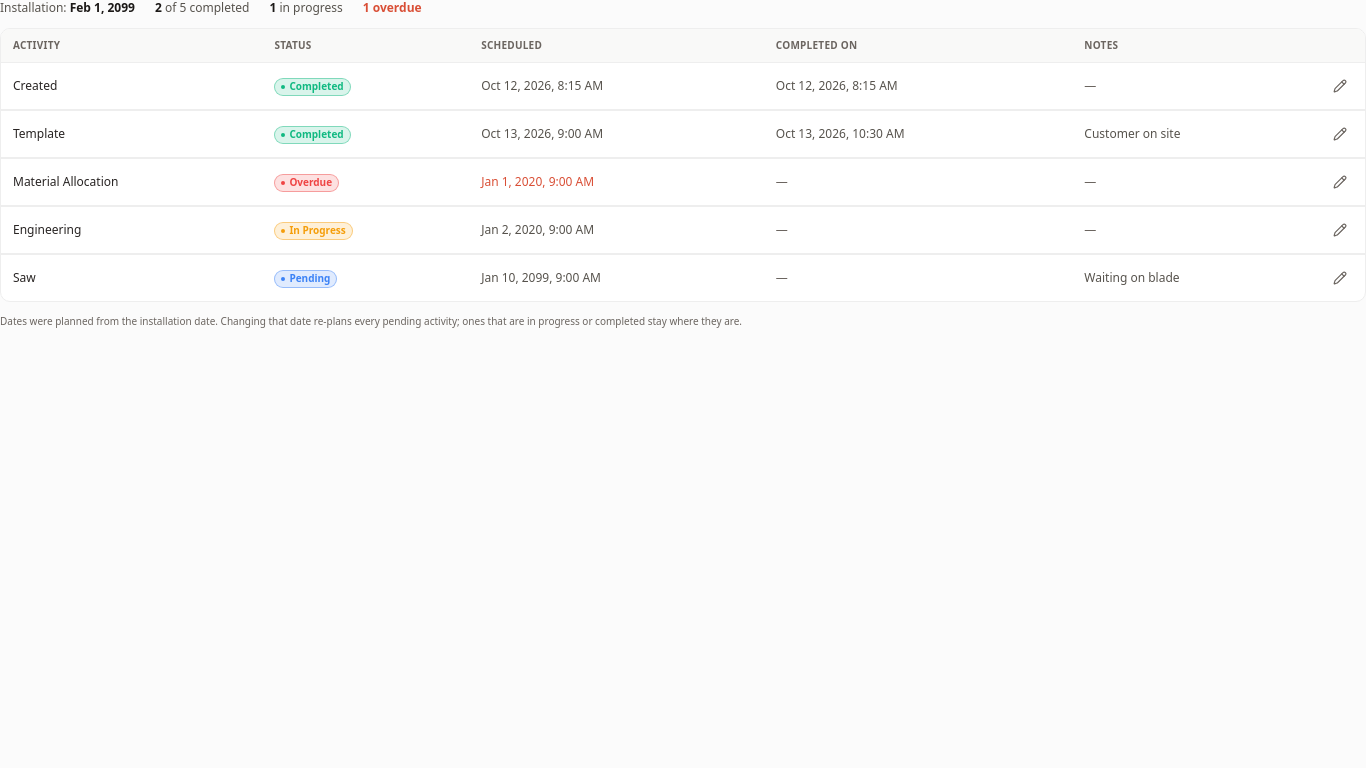
Scenario: SalesOrderSchedulingTab › refuses a completed time that has no completed date
Expected: the table is shown, [1,29,1365,301]
Click the button named "Edit Saw" at (1340, 278), box [1327,265,1353,291]
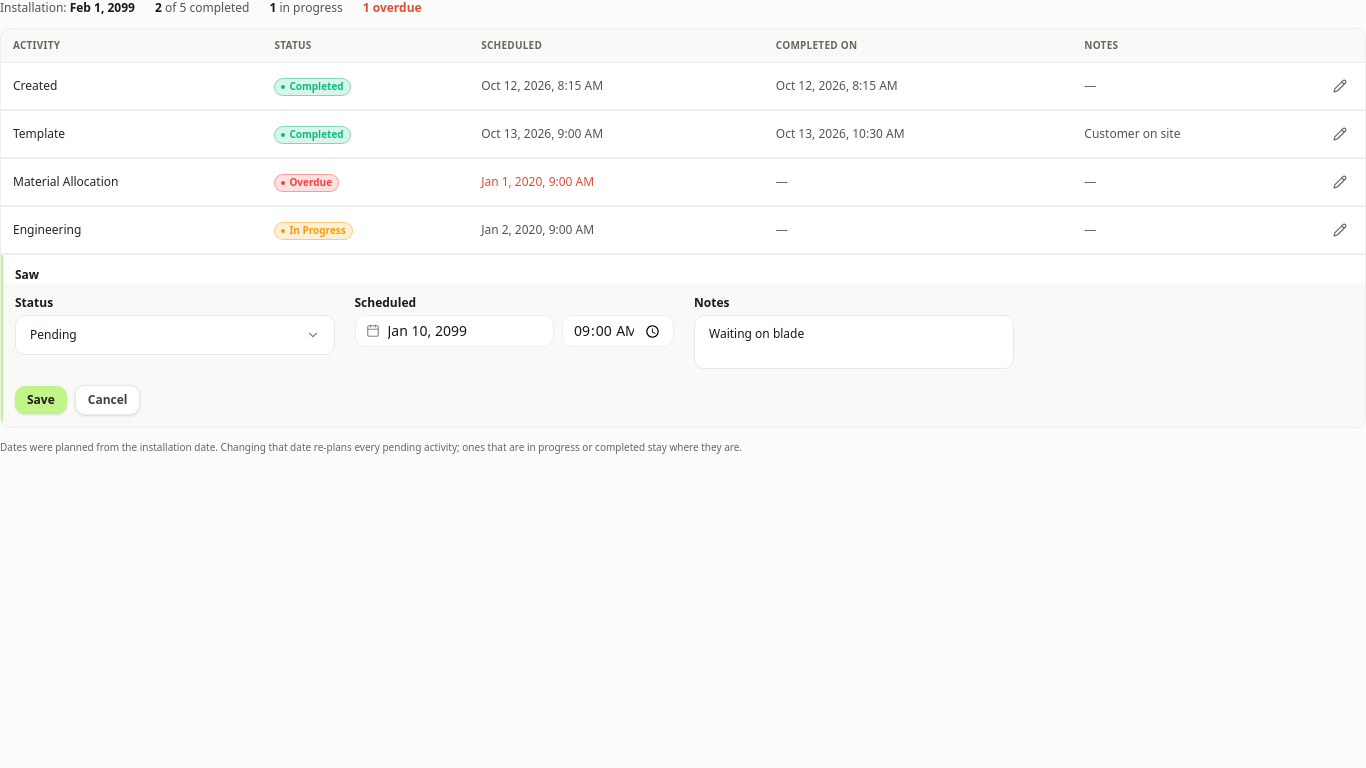
Click the dropdown named "Status for Saw" at (53, 335), box [15,315,334,355]
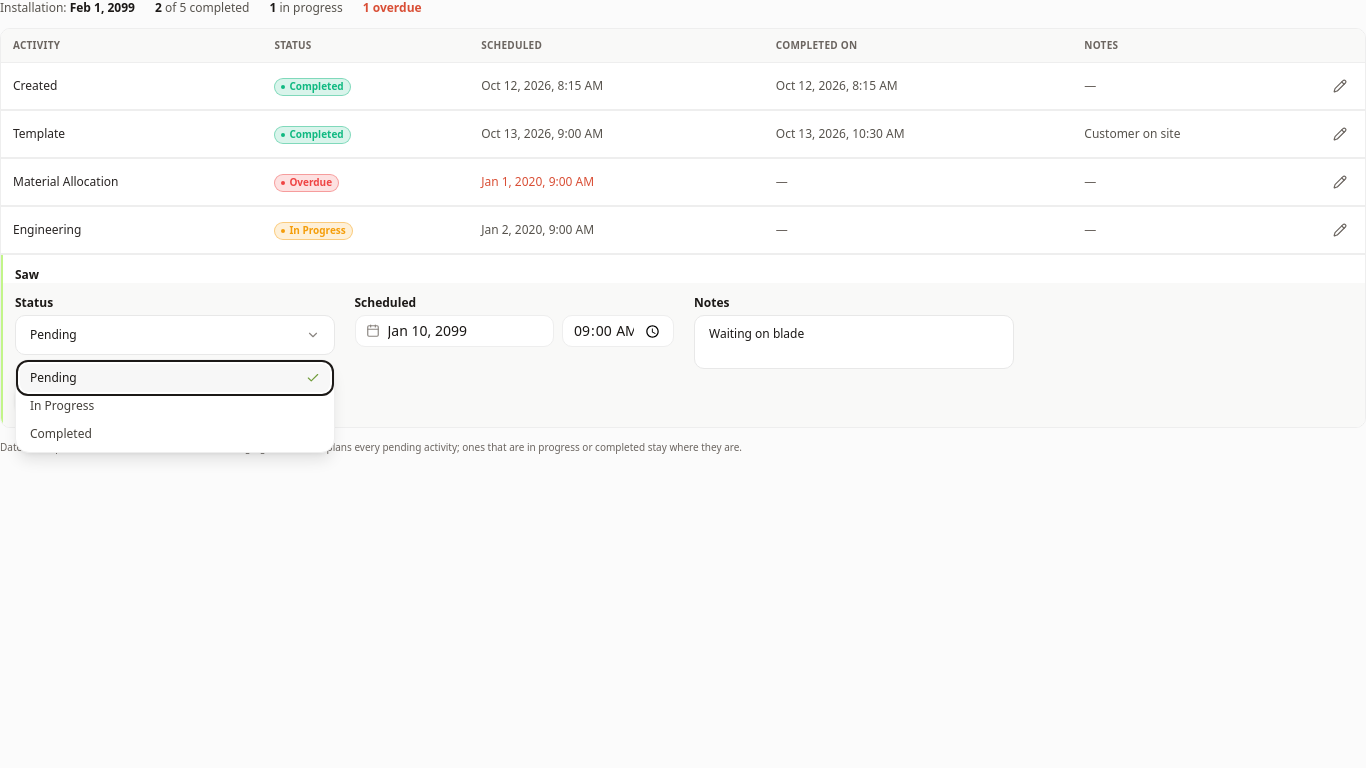
Click the option "Completed" at (61, 434), box [20,420,330,448]
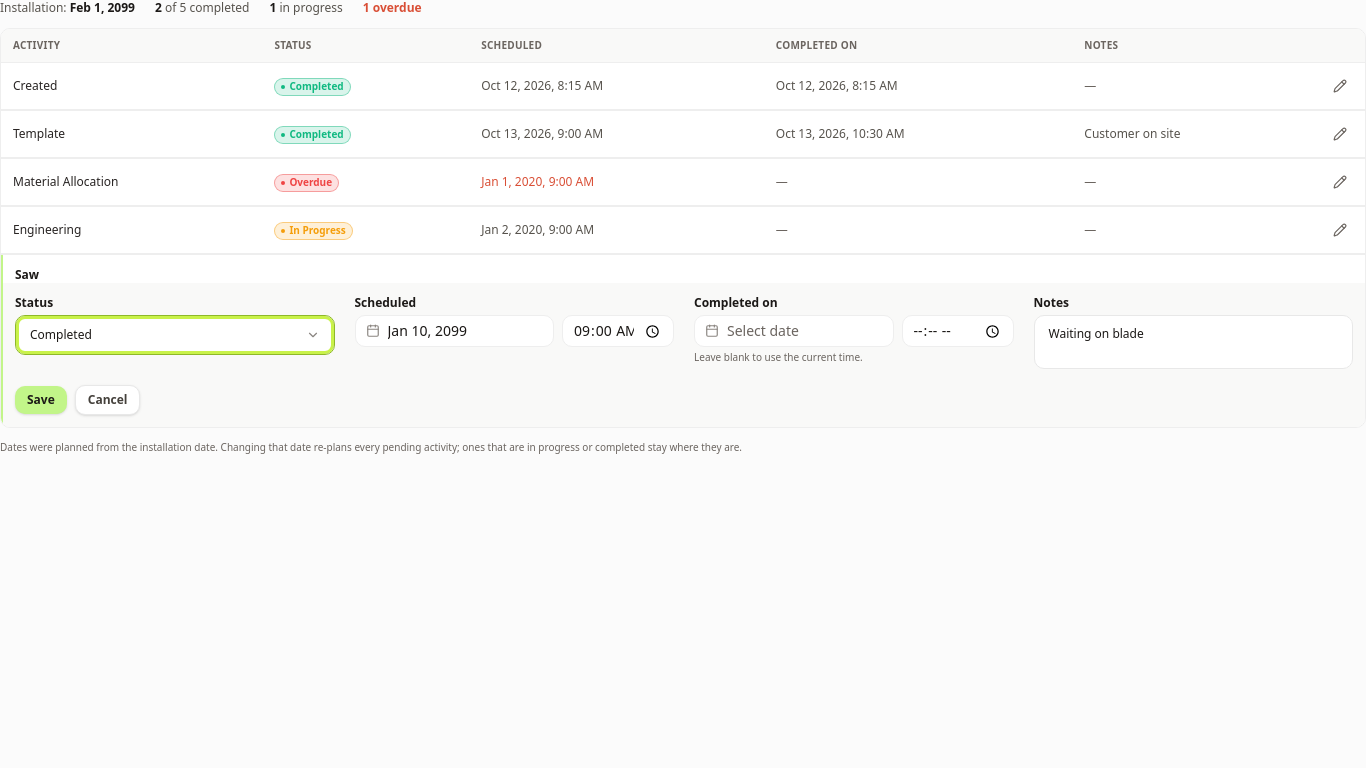
Type "10:00" into the time field named "Completed time for Saw" at (958, 331), box [902,315,1014,347]
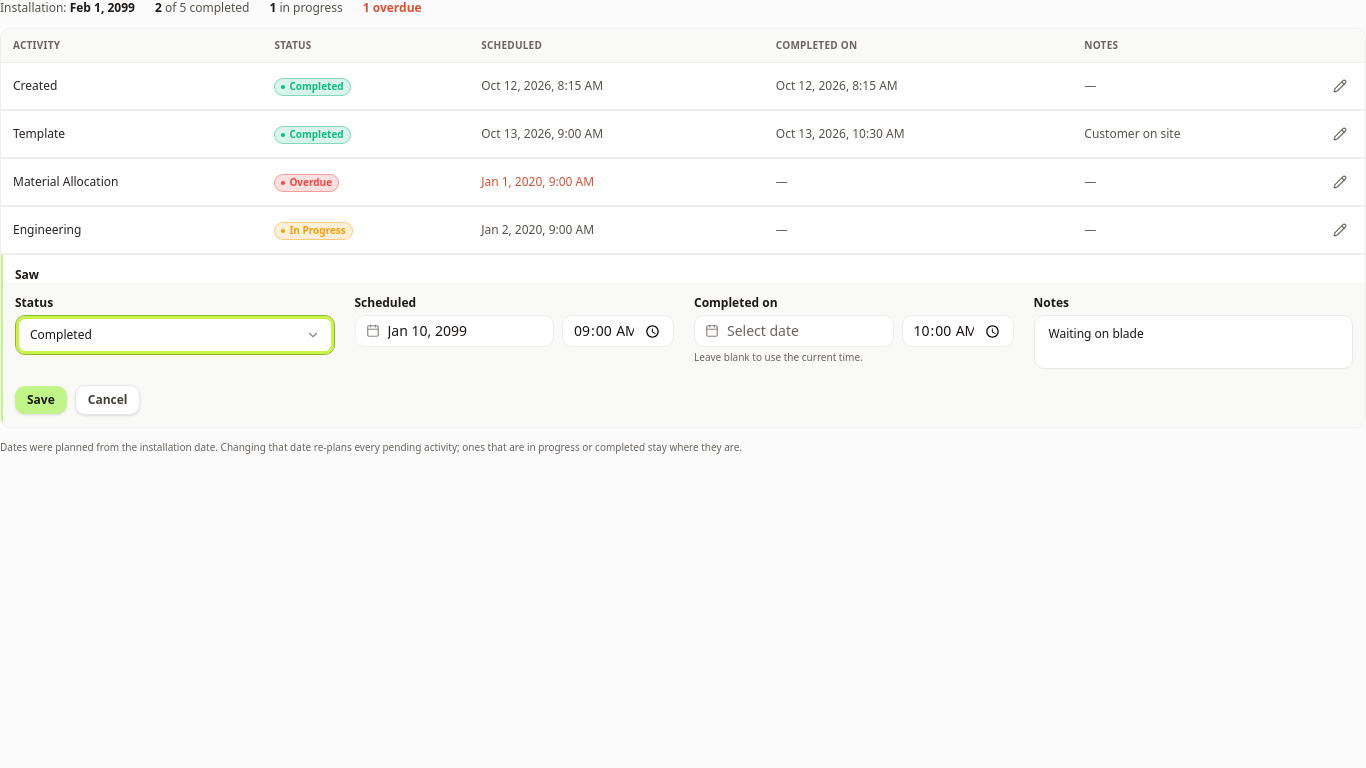
Click the button with aria-label "Save changes for Saw" at (41, 400), box [15,386,67,414]
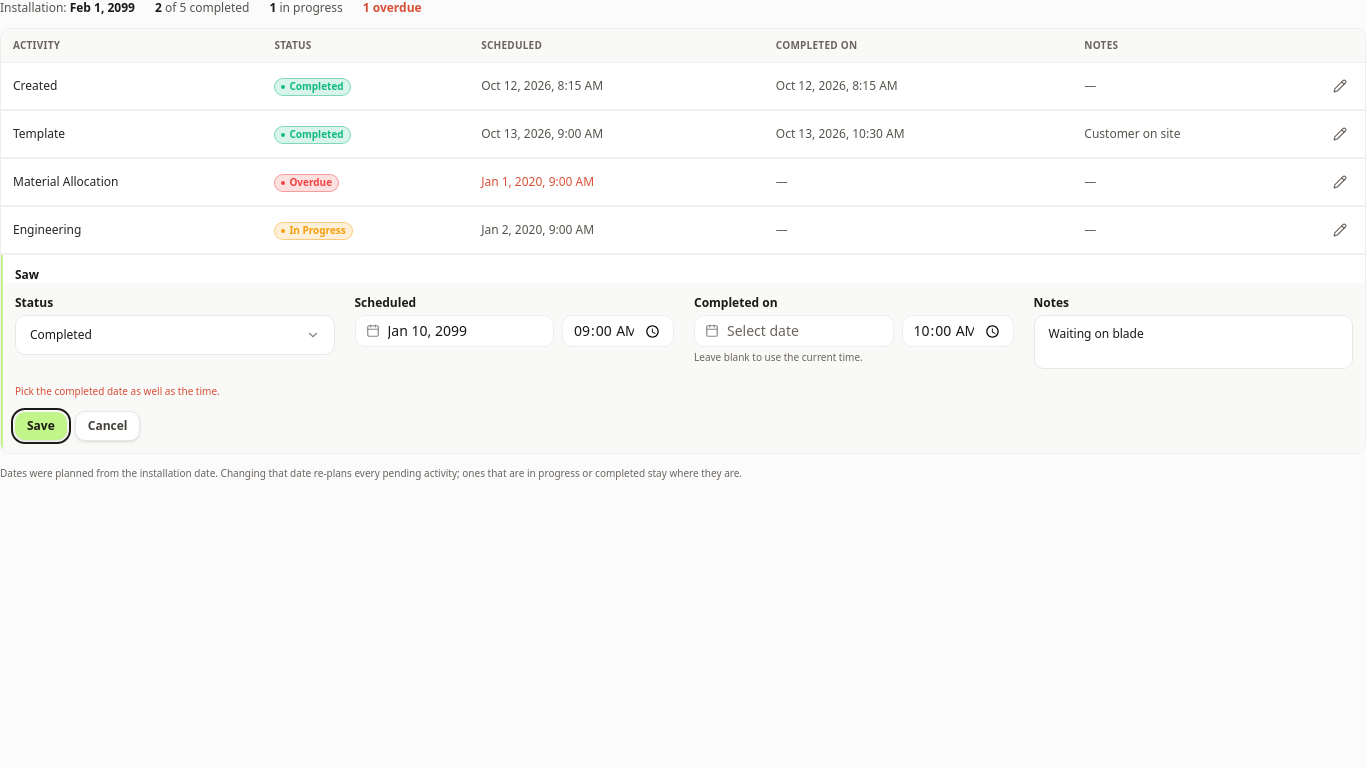
Now the message reads "Pick the completed date as well as the time.", box [15,384,220,398]
